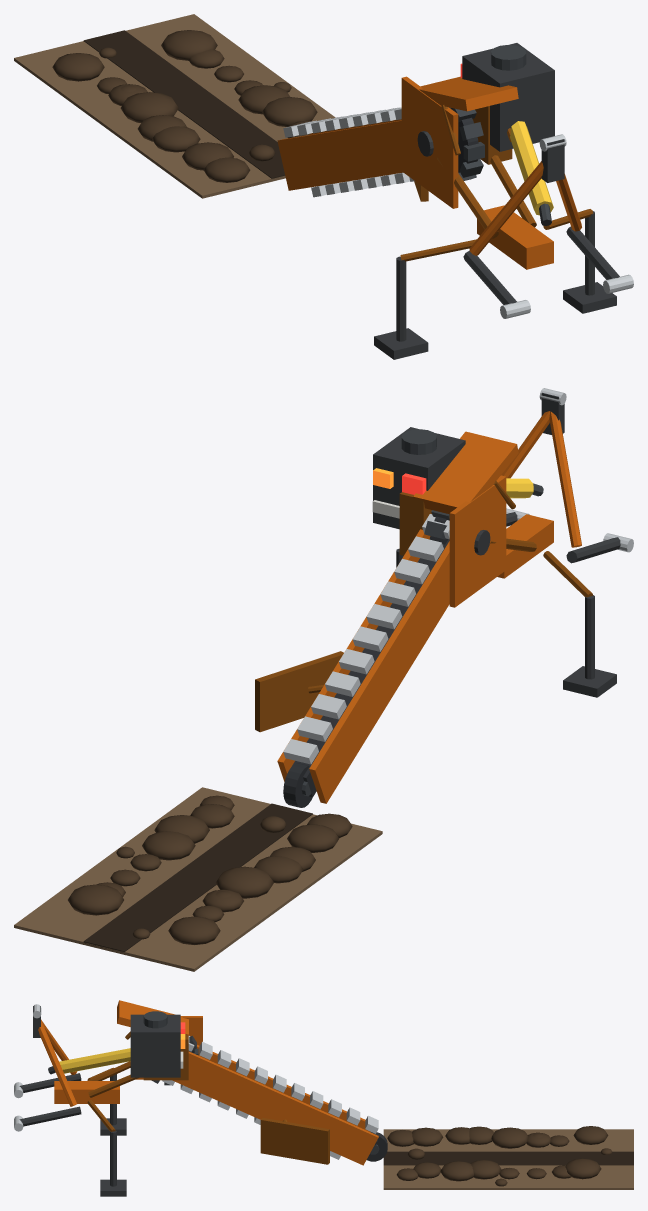
Rendered from trencher.glb.
The picture shows the model from 3 angles, top to bottom: view 1: azimuth 30°, elevation 25°; view 2: azimuth 150°, elevation 25°; view 3: azimuth 270°, elevation 25°; orthographic projection. The views are drawn at different scales.
Visible parts, largest first — view 1: TrencherBody, TrencherProps, TrencherSprocket; view 2: TrencherBody, TrencherProps; view 3: TrencherBody, TrencherProps.
Part boxes in pixels (bbox=[...]): TrencherBody: bbox=[277, 43, 633, 359]; TrencherProps: bbox=[14, 14, 335, 198]; TrencherSprocket: bbox=[449, 107, 484, 180]; TrencherBody: bbox=[255, 388, 633, 807]; TrencherProps: bbox=[14, 787, 382, 971]; TrencherBody: bbox=[14, 1000, 387, 1196]; TrencherProps: bbox=[383, 1126, 633, 1189].
Bounding box in the file's own units: 1.3 × 1.33 × 4.7.
